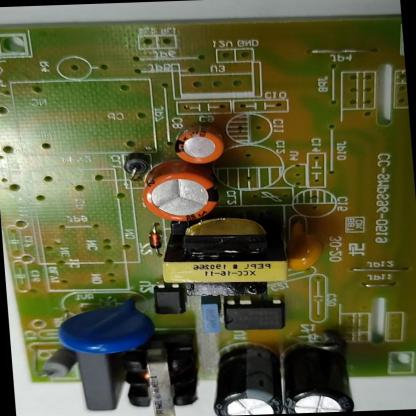Cap1: (134, 158, 225, 224)
Cap2: (166, 116, 236, 167)
Cap3: (266, 335, 367, 414)
Cap4: (205, 344, 295, 415)
MOSFET: (222, 296, 288, 334)
Mov: (41, 293, 163, 358)
Resistor: (28, 344, 88, 384)
Transformer: (157, 203, 305, 291), (117, 327, 208, 416)
